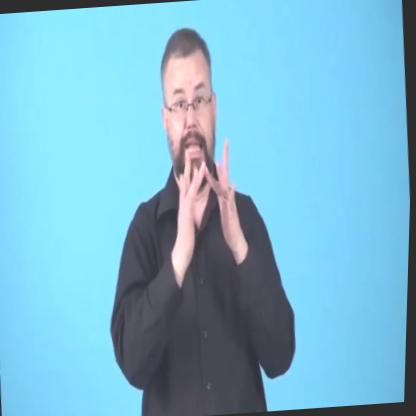Internet: (161, 126, 253, 259)
